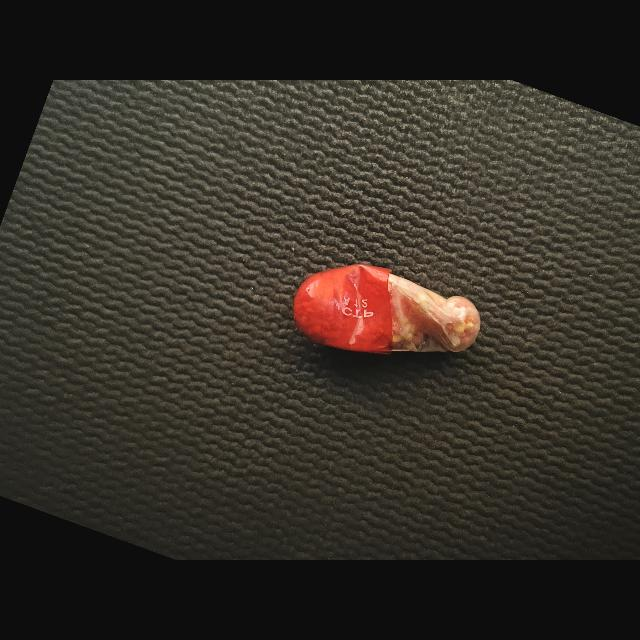Defective Capsule: (293, 264, 480, 355)
